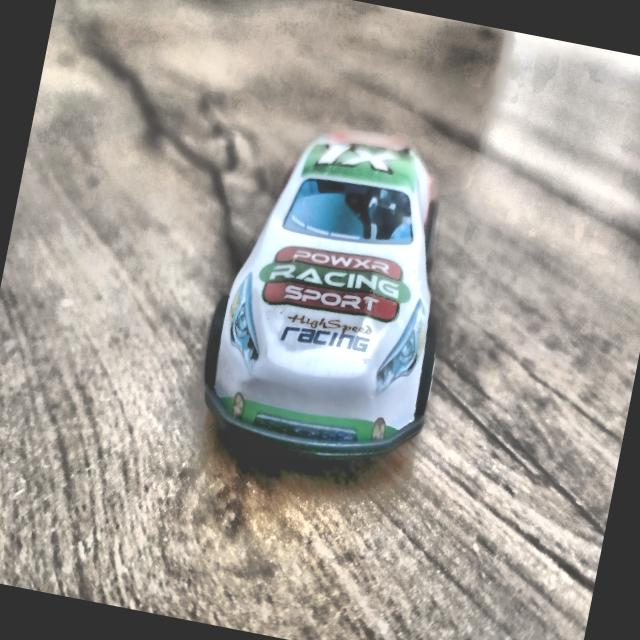Car: (187, 112, 483, 490)
